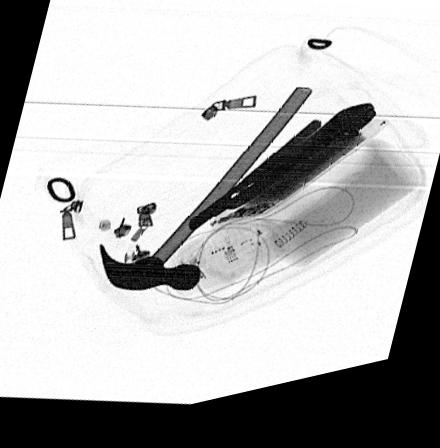Hammer: (98, 100, 313, 298)
Pliers: (184, 131, 324, 242)
Powerbank: (214, 127, 387, 230)
Wrench: (227, 118, 377, 219)
